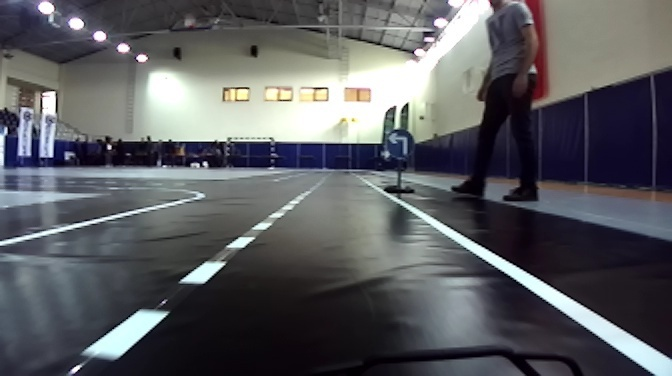sola_donus: (384, 128, 415, 155)
